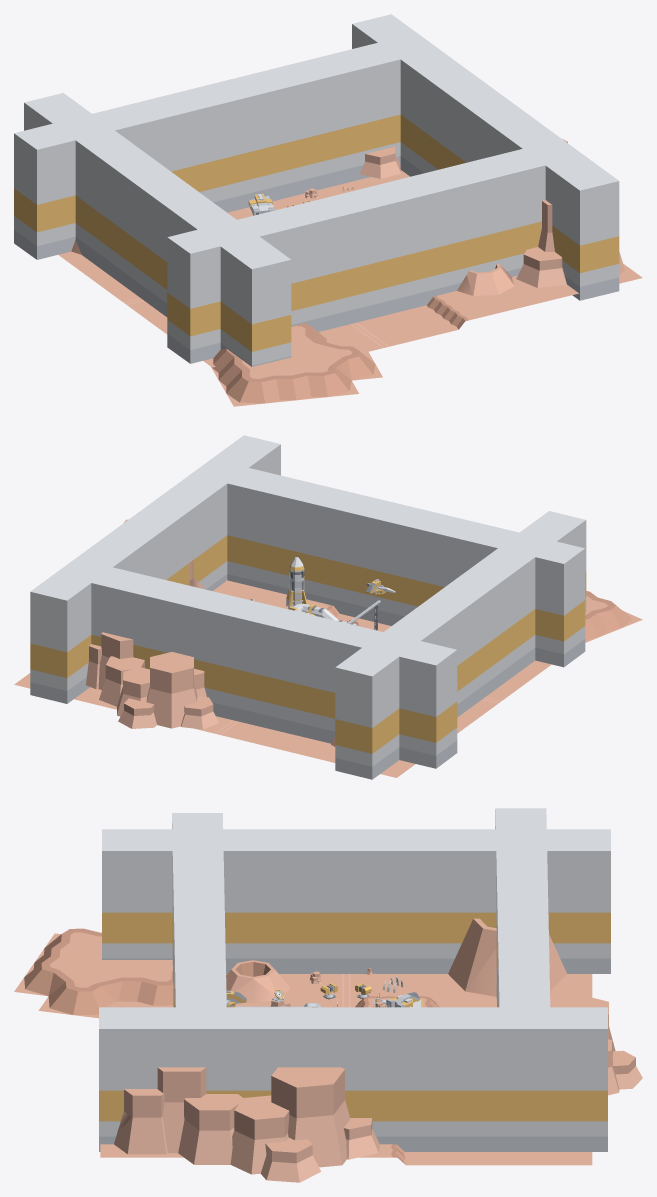
Rendered from martian.glb.
3 views of the same model, one above another, from view 1: azimuth 30°, elevation 25°; view 2: azimuth 150°, elevation 25°; view 3: azimuth 270°, elevation 25° (orthographic). The views are drawn at different scales.
Visible parts, largest first — view 1: mur.001, mur.002, mur.003, mur, rock_largeA.005, craterLarge.005, rock_largeA.010, terrain.940, terrain.941, terrain.939, terrain.933, terrain.934 (+2 smaller); view 2: mur.002, mur.001, mur.003, mur, rock_largeA.009, rock_largeA.010, terrain.942; view 3: mur.003, mur, rock_largeA.006, mur.002, mur.001, rock_largeA.005, craterLarge.006, craterLarge.004, rock_largeA.009, terrain.937, terrain.932, terrain.933 (+5 smaller).
Boxes of the visible parts, x1=… form: mur.001: x1=167, y1=144, x2=582, y2=363; mur.002: x1=14, y1=36, x2=425, y2=259; mur.003: x1=24, y1=93, x2=291, y2=366; mur: x1=352, y1=14, x2=619, y2=300; rock_largeA.005: x1=516, y1=200, x2=624, y2=287; craterLarge.005: x1=457, y1=263, x2=514, y2=295; rock_largeA.010: x1=360, y1=146, x2=400, y2=178; terrain.940: x1=258, y1=372, x2=296, y2=403; terrain.941: x1=289, y1=369, x2=327, y2=400; terrain.939: x1=226, y1=375, x2=264, y2=406; terrain.933: x1=344, y1=351, x2=382, y2=380; terrain.934: x1=320, y1=367, x2=358, y2=396; mur.002: x1=64, y1=560, x2=457, y2=768; mur.001: x1=192, y1=460, x2=585, y2=667; mur.003: x1=335, y1=511, x2=586, y2=779; mur: x1=30, y1=435, x2=280, y2=703; rock_largeA.009: x1=117, y1=652, x2=218, y2=729; rock_largeA.010: x1=86, y1=632, x2=144, y2=706; terrain.942: x1=585, y1=605, x2=620, y2=637; mur.003: x1=102, y1=829, x2=610, y2=973; mur: x1=99, y1=1007, x2=607, y2=1151; rock_largeA.006: x1=230, y1=1067, x2=379, y2=1182; mur.002: x1=495, y1=808, x2=550, y2=1023; mur.001: x1=172, y1=813, x2=226, y2=1027; rock_largeA.005: x1=114, y1=1067, x2=244, y2=1164; craterLarge.006: x1=448, y1=918, x2=566, y2=996; craterLarge.004: x1=226, y1=960, x2=290, y2=1003; rock_largeA.009: x1=556, y1=995, x2=642, y2=1095; terrain.937: x1=118, y1=974, x2=162, y2=1005; terrain.932: x1=73, y1=984, x2=114, y2=1018; terrain.933: x1=38, y1=982, x2=82, y2=1014.
Bounding box in the file's own units: 36.18 × 8.15 × 37.07.
